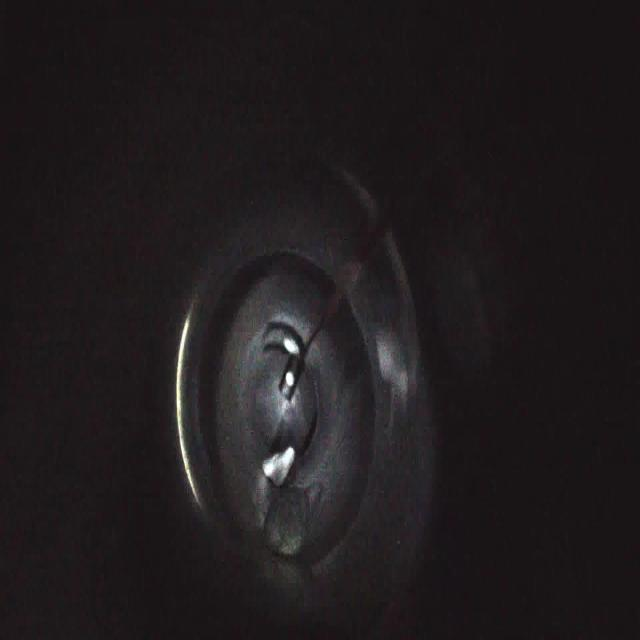impurity: (260, 486, 315, 566), (258, 443, 296, 488)
